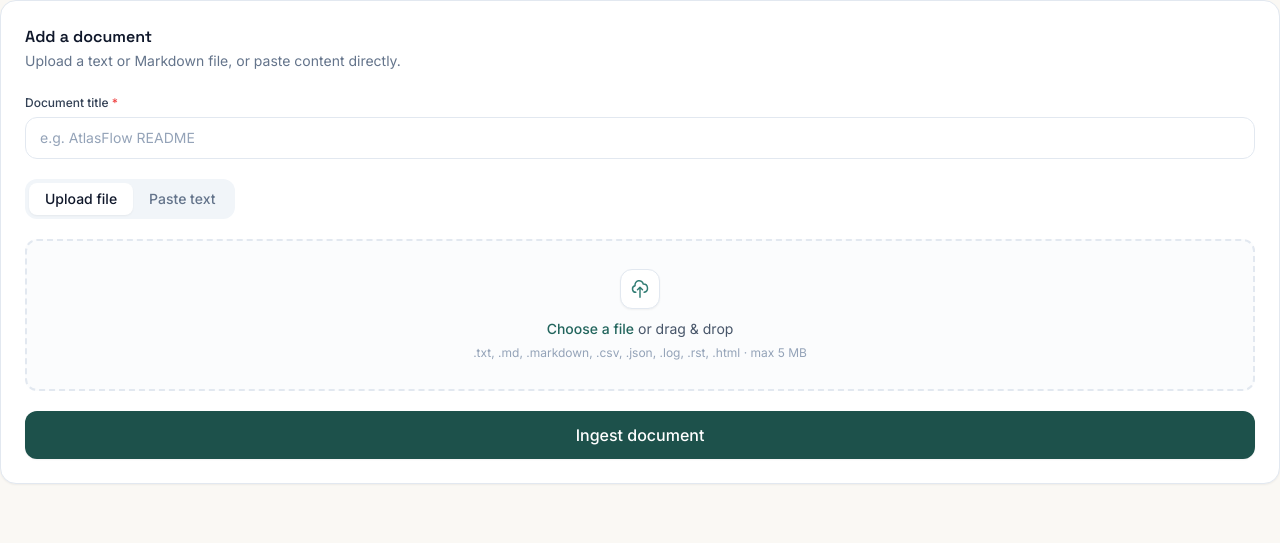
IngestPanel › shows validation error when title is empty
This screenshot has width=1280, height=543.
Click the button "Ingest document" at x=640, y=435, box top-left (25, 411), bottom-right (1255, 459)
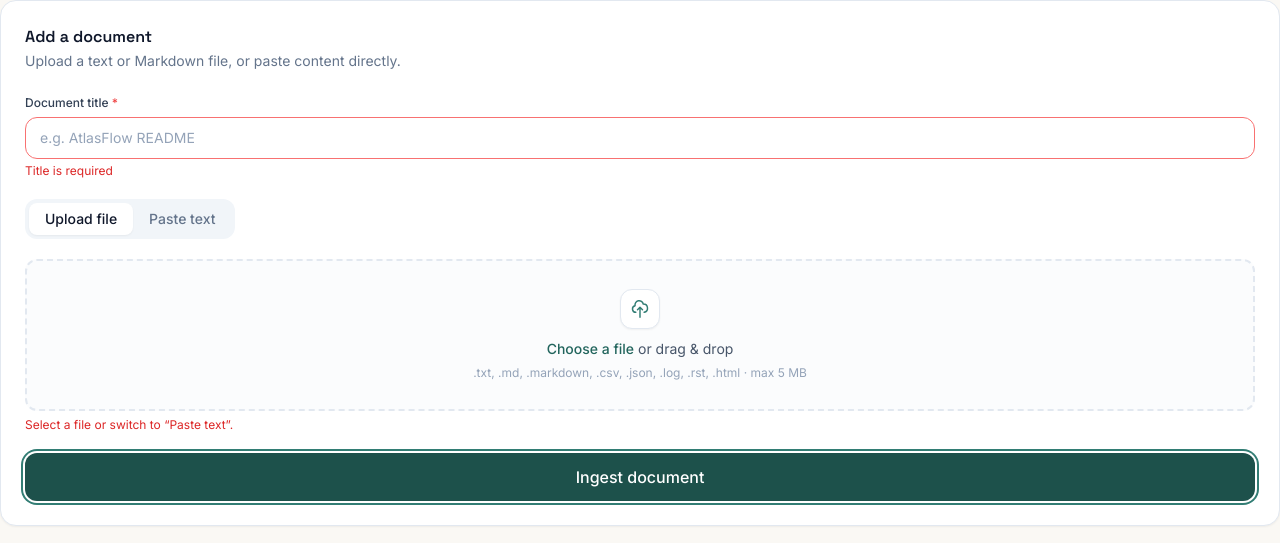
expect the text "Title is required" is shown: met, box top-left (25, 163), bottom-right (113, 178)
